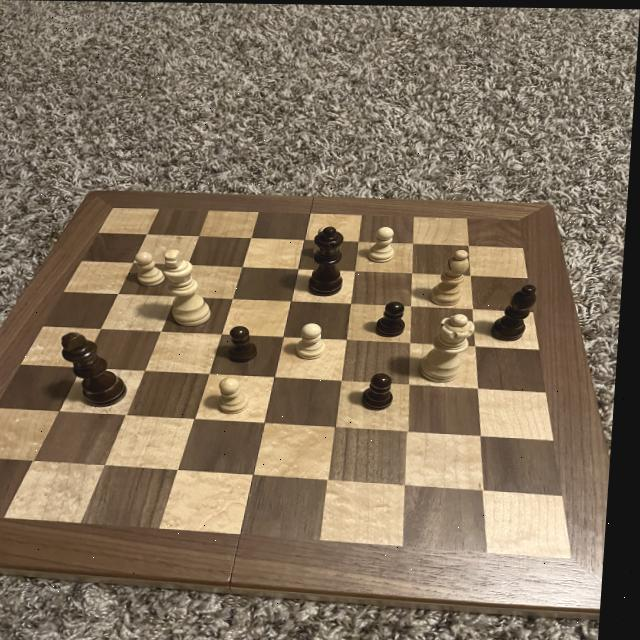bishop: (489, 280, 546, 344)
black-bishop: (61, 330, 137, 408)
black-knight: (225, 322, 264, 363), (366, 369, 398, 412), (376, 298, 412, 336)
black-pawn: (306, 226, 352, 302)
black-rook: (427, 244, 478, 302)
white-bishop: (160, 246, 219, 335)
white-knight: (215, 371, 261, 418), (133, 246, 169, 289), (295, 319, 331, 360), (311, 222, 346, 264), (368, 222, 401, 264)
white-pawn: (421, 309, 479, 388)
